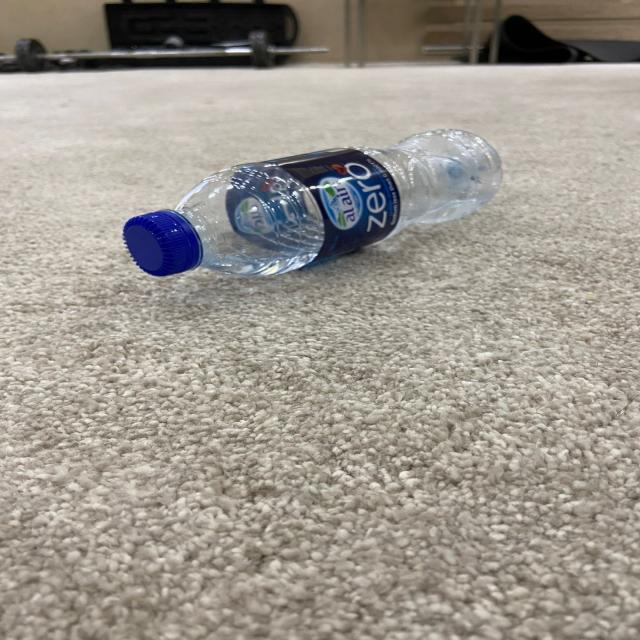chai: (122, 129, 502, 276)
